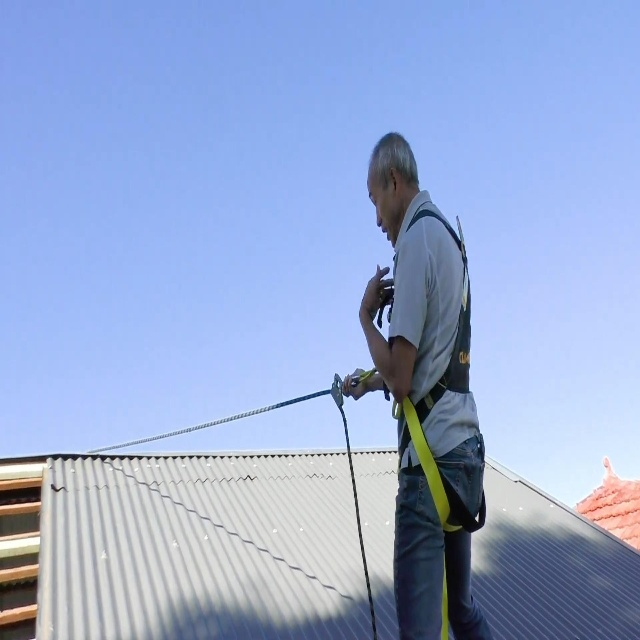Arnes_seguridad: (371, 207, 497, 556)
